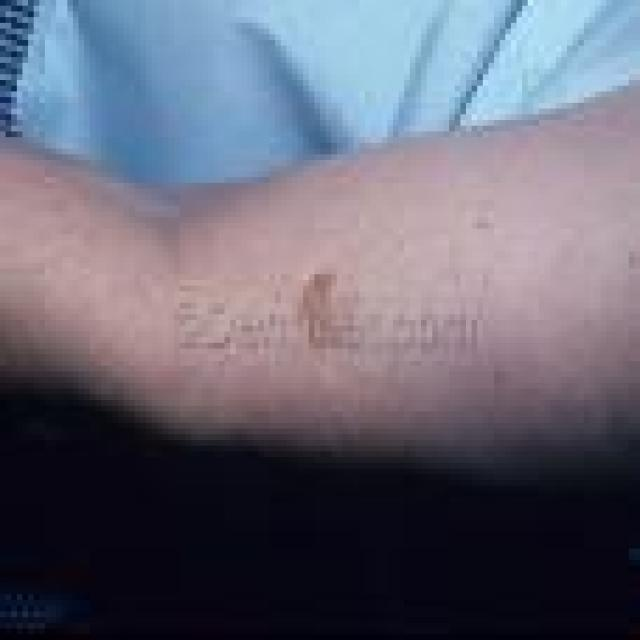Melasma: (289, 261, 371, 366)
